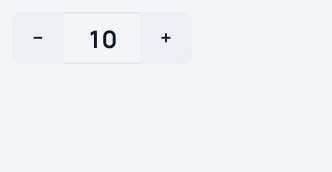
Scenario: Stepper › can be typed into, and clamps what is typed
Replace the text in the number field named "Kapacita" with "24" at (102, 38), box [70,12,134,64]
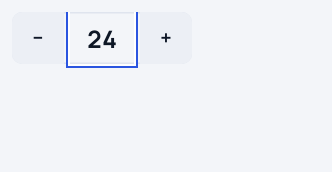
Replace the text in the number field named "Kapacita" with "400" at (102, 38), box [70,12,134,64]
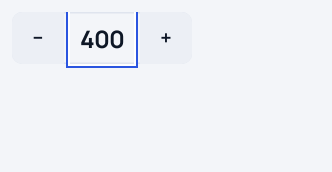
Press Tab
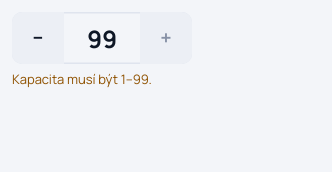
Expected: the number field named "Kapacita" holds "99", [70,12,134,64]
